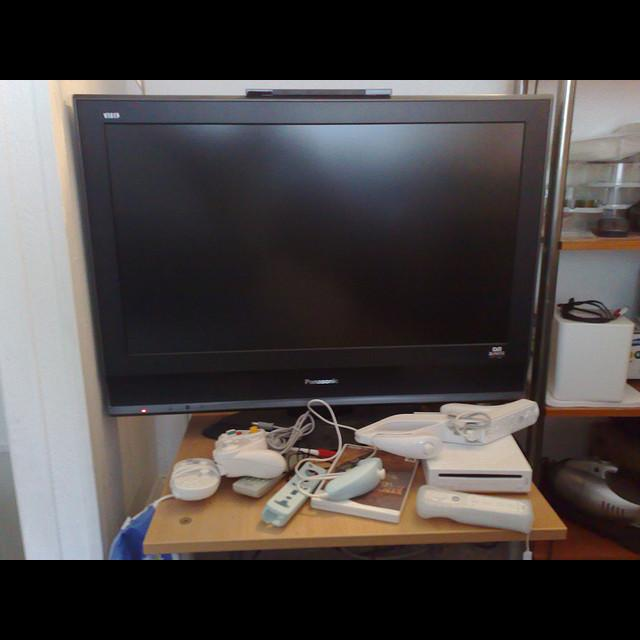Flat-Panel-TV: (73, 95, 553, 417)
TV-Remote-Control: (231, 470, 289, 498)
